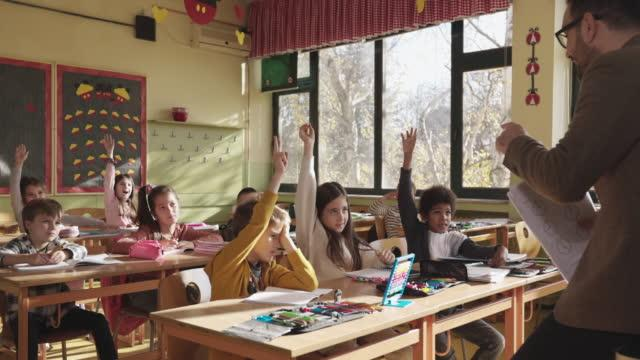study: (200, 135, 318, 299), (292, 120, 394, 284), (399, 125, 504, 268), (99, 132, 146, 229), (10, 142, 43, 205)
